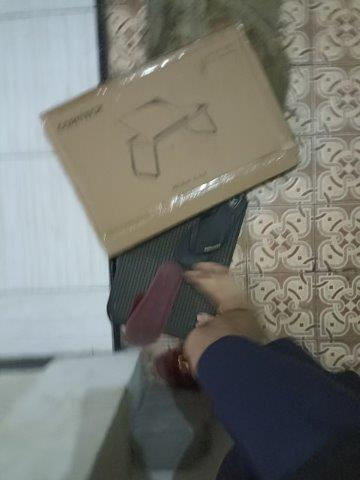kardus: (45, 27, 300, 252)
